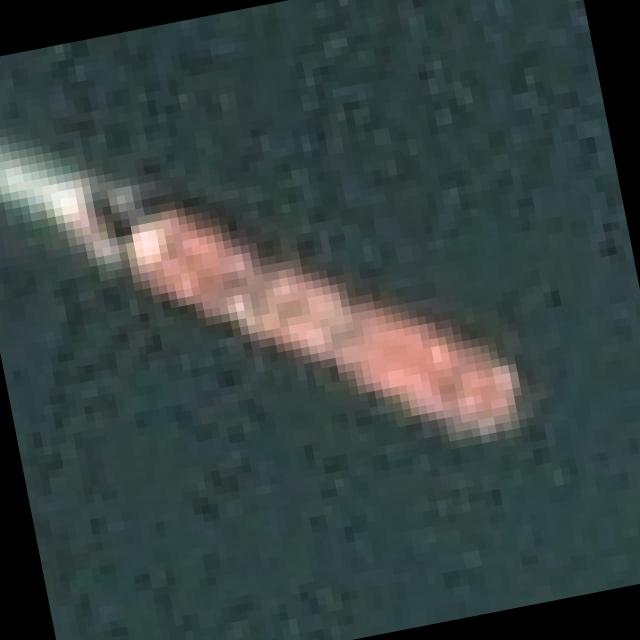ship: (41, 69, 578, 555)
